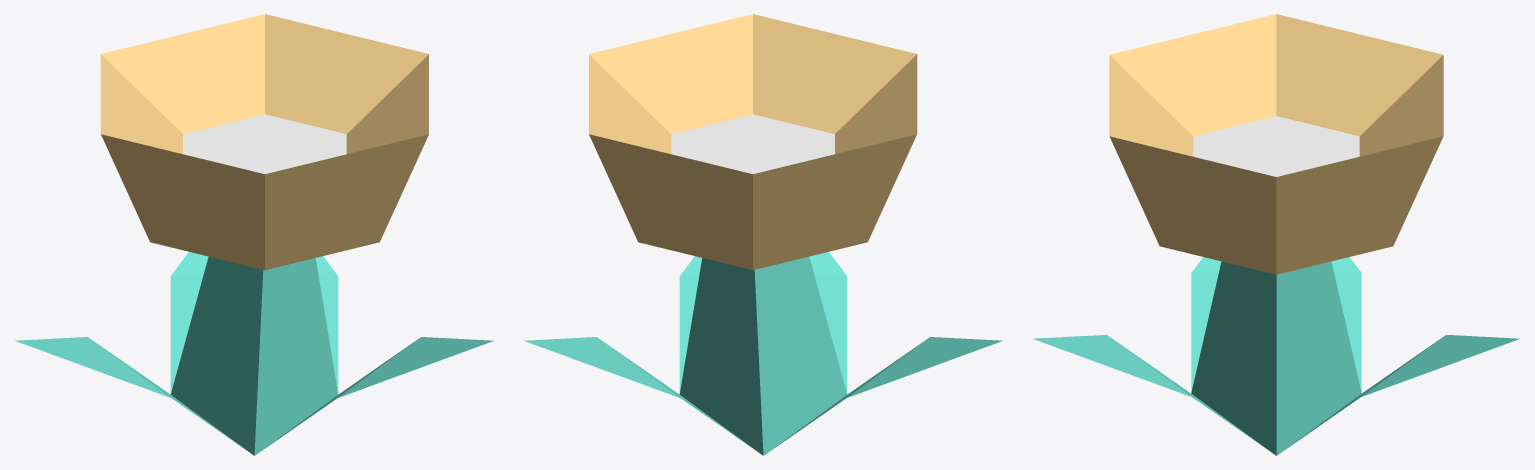
File: flower_yellowC.glb
3 views of the same model, side by side, from view 1: azimuth 30°, elevation 25°; view 2: azimuth 150°, elevation 25°; view 3: azimuth 270°, elevation 25° (orthographic).
Visible parts, largest first — view 1: flower_yellowC; view 2: flower_yellowC; view 3: flower_yellowC.
Boxes of the visible parts, x1,y1,x2,y2 form: flower_yellowC: (15,14,493,455); flower_yellowC: (524,14,1002,455); flower_yellowC: (1033,14,1519,455).
Size of the model in its own units: 0.1806 by 0.1325 by 0.1811.
Materials: 1 (1 with a texture image).
